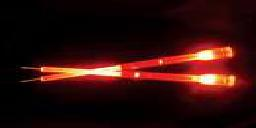LED: (24, 62, 239, 92)
